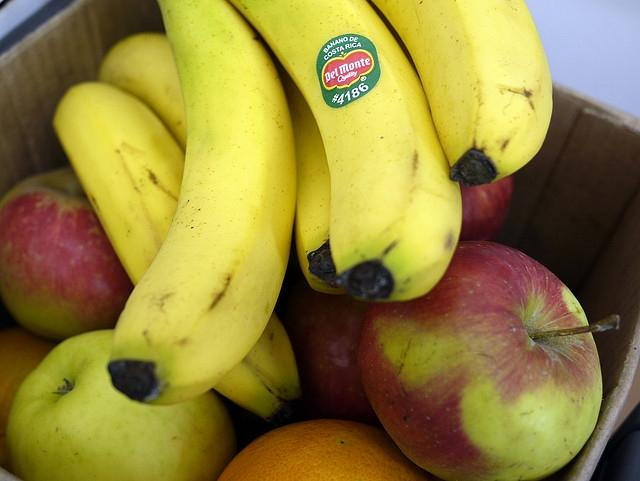apple: (357, 240, 620, 481), (6, 329, 238, 481), (2, 165, 135, 340), (302, 288, 376, 422), (1, 326, 58, 475), (459, 174, 514, 242)
banana: (52, 79, 308, 428), (107, 2, 297, 406), (228, 0, 463, 303), (371, 0, 553, 187), (267, 44, 348, 294), (99, 34, 187, 154)
orange: (220, 419, 428, 481), (0, 328, 59, 436)
